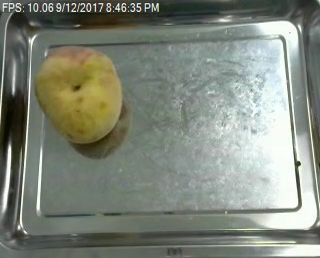Peach: (34, 45, 123, 144)
